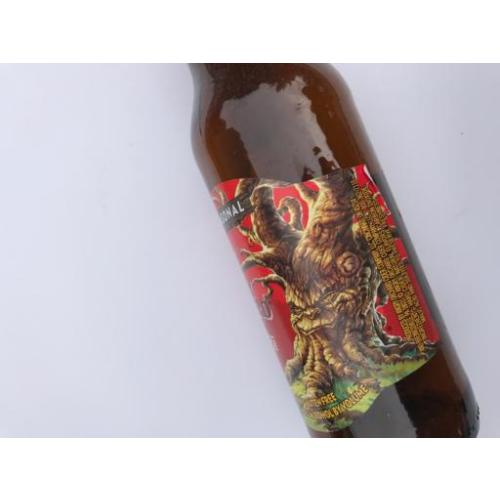glass: (190, 62, 481, 437)
